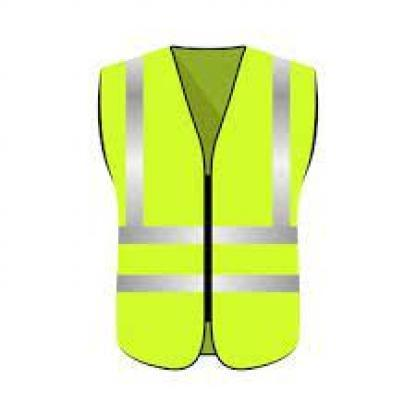vest: (94, 44, 307, 367)
